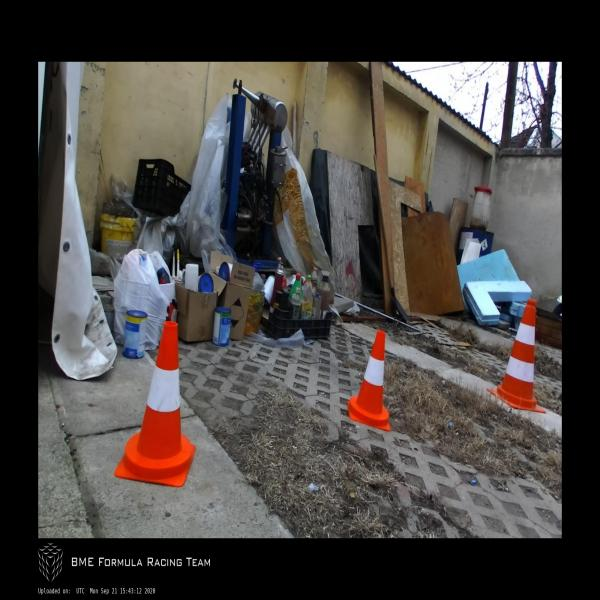large_orange_cone: (487, 299, 546, 413)
orange_cone: (114, 321, 196, 487), (347, 330, 391, 431)
